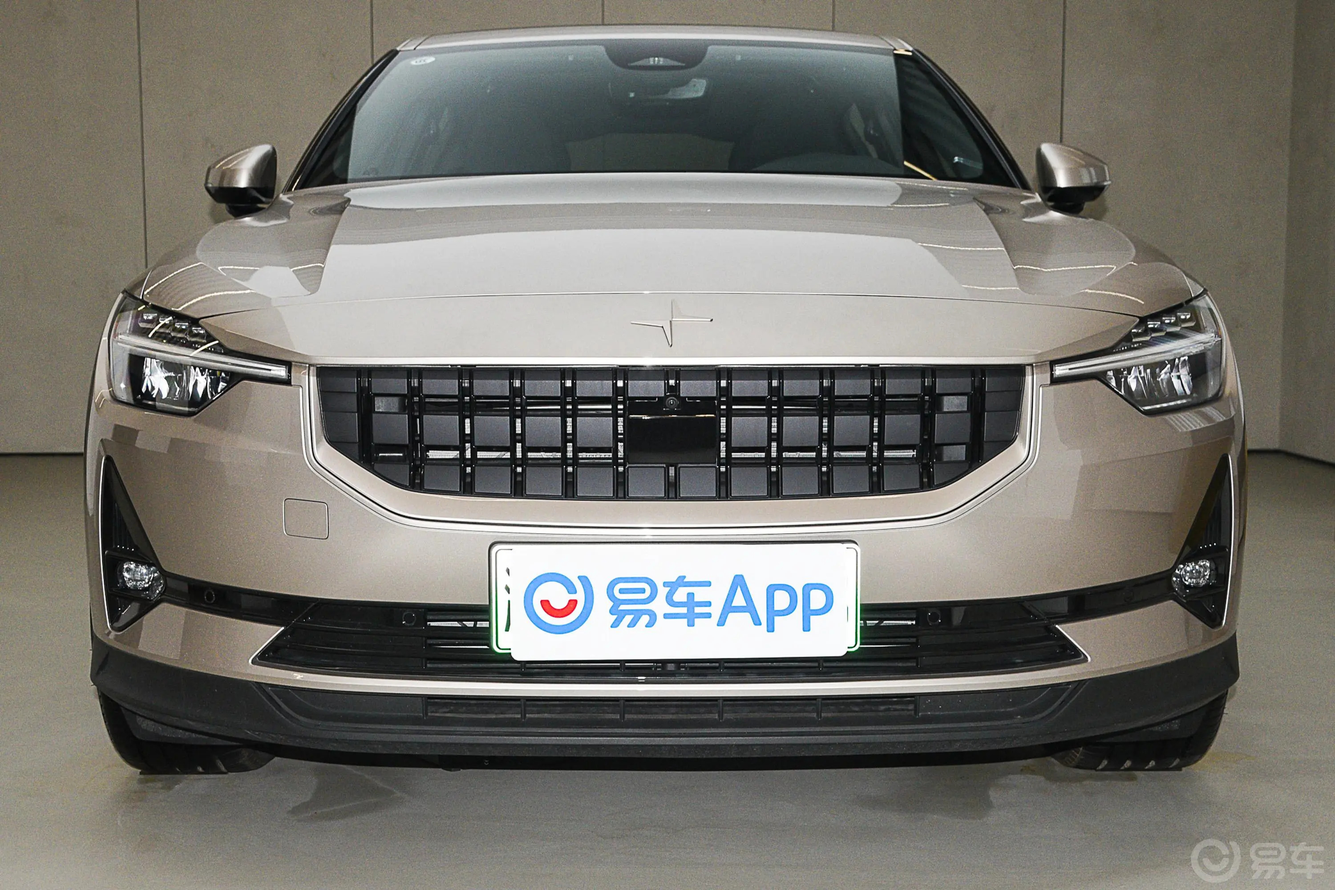Polestar: (631, 299, 713, 346)
